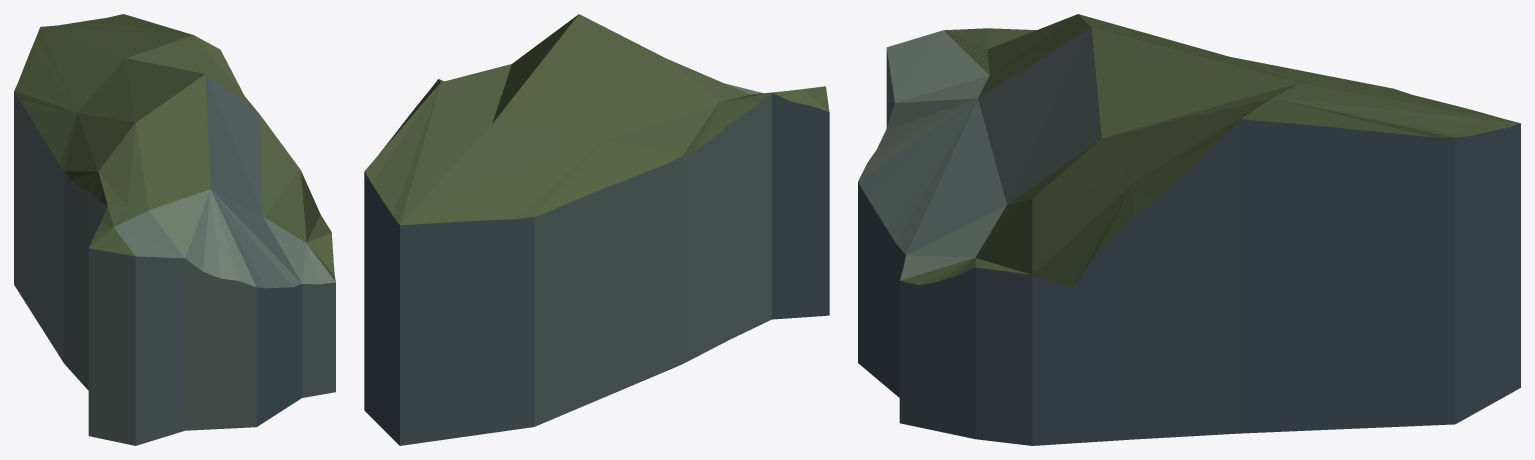
File: cliff_shadow_buttress.glb
The picture shows the model from 3 angles, left to right: view 1: azimuth 30°, elevation 25°; view 2: azimuth 150°, elevation 25°; view 3: azimuth 270°, elevation 25°; orthographic projection. The views are drawn at different scales.
Parts seen in each view (by area): view 1: cliff_shadow_buttress; view 2: cliff_shadow_buttress; view 3: cliff_shadow_buttress.
Part boxes in pixels (bbox=[...]): cliff_shadow_buttress: bbox=[14, 14, 335, 445]; cliff_shadow_buttress: bbox=[364, 14, 829, 445]; cliff_shadow_buttress: bbox=[858, 14, 1520, 445].
Bounding box in the file's own units: 63.16 × 63 × 105.
